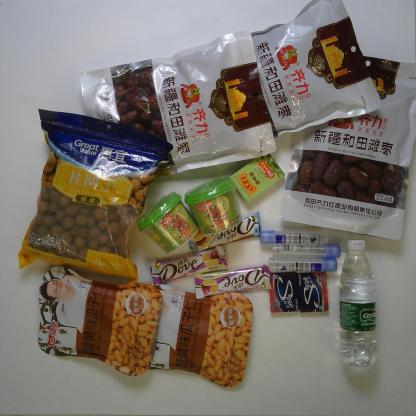Candy: (230, 150, 286, 204)
Chocolate: (150, 245, 228, 286), (189, 210, 261, 253), (194, 264, 272, 299)
Dried Food: (80, 30, 276, 178), (16, 110, 174, 283), (277, 54, 416, 242), (208, 0, 385, 140)
Dried Fruit: (36, 265, 164, 377), (126, 280, 254, 388)
Drink: (339, 239, 378, 368)
Gum: (298, 271, 329, 313), (269, 272, 299, 314)
Instant Drink: (136, 191, 200, 255), (183, 178, 243, 236)
Stationery: (268, 256, 338, 273), (272, 243, 342, 259), (258, 230, 329, 244)
